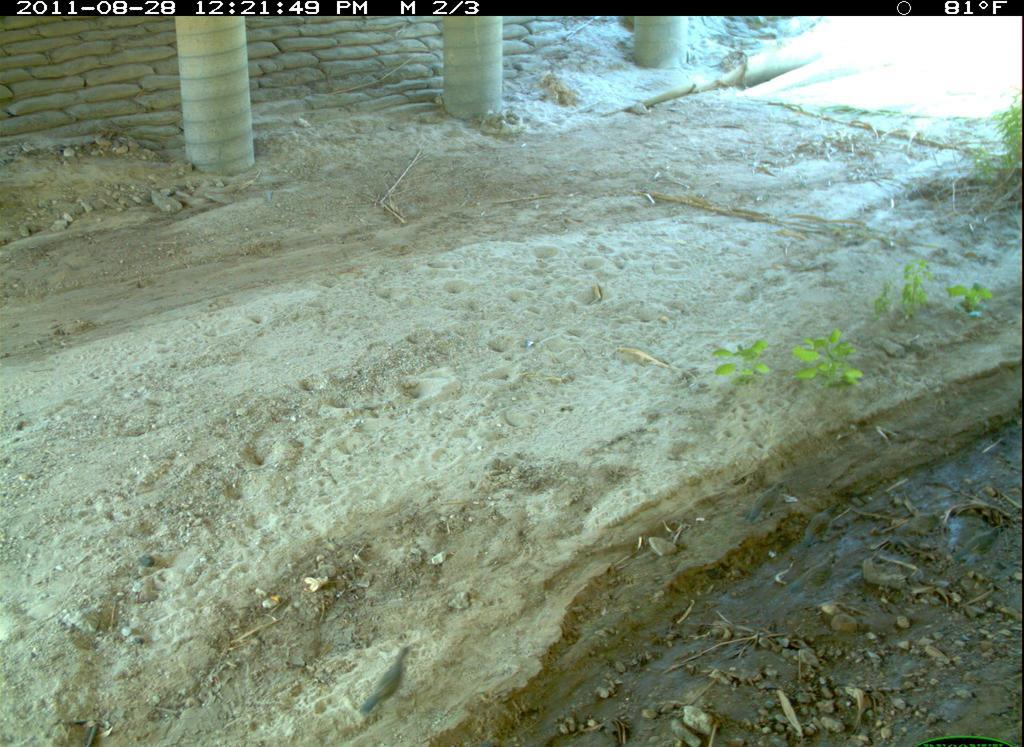bird: (890, 505, 947, 545)
